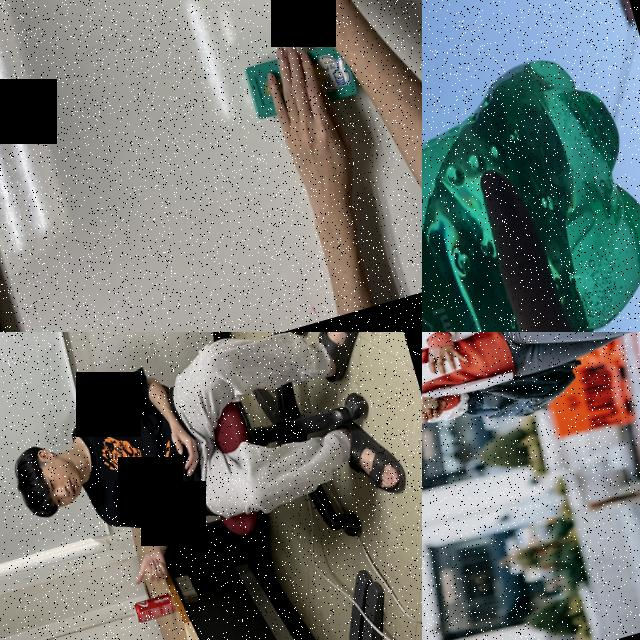bottle: (422, 38, 640, 332)
can: (132, 591, 176, 623)
cup: (422, 350, 463, 386)
